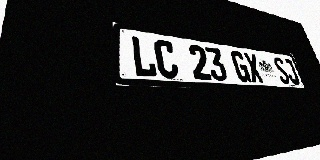2: (188, 44, 212, 80)
3: (205, 47, 228, 81)
C: (153, 39, 180, 79)
G: (230, 50, 252, 82)
J: (282, 58, 301, 85)
L: (130, 35, 158, 78)
S: (272, 57, 292, 84)
X: (243, 52, 264, 83)
